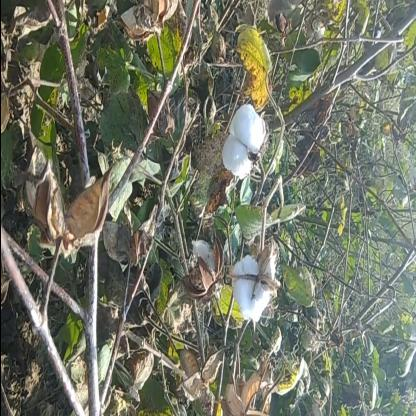cotton_ready: (217, 90, 280, 191), (221, 238, 280, 336)
